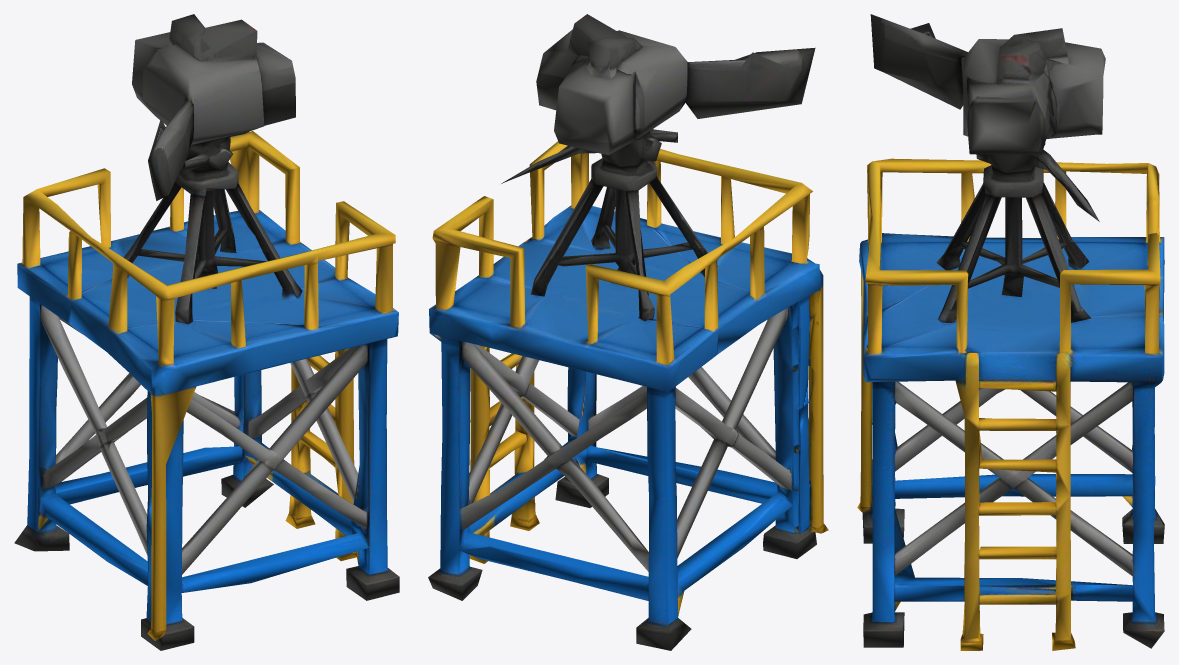
Rendered from camera-tower.glb.
3 views of the same model, side by side, from view 1: azimuth 30°, elevation 25°; view 2: azimuth 150°, elevation 25°; view 3: azimuth 270°, elevation 25° (orthographic). The views are drawn at different scales.
Parts seen in each view (by area): view 1: tripo_node_6824bfd7-9483-4006-afc6-f29f7edd4aeb; view 2: tripo_node_6824bfd7-9483-4006-afc6-f29f7edd4aeb; view 3: tripo_node_6824bfd7-9483-4006-afc6-f29f7edd4aeb.
Part boxes in pixels (x1,y1,x2,y2): tripo_node_6824bfd7-9483-4006-afc6-f29f7edd4aeb: (14,14,399,650); tripo_node_6824bfd7-9483-4006-afc6-f29f7edd4aeb: (428,14,828,650); tripo_node_6824bfd7-9483-4006-afc6-f29f7edd4aeb: (857,14,1164,650).
Bounding box in the file's own units: 0.4989 × 1 × 0.5033.
1 material, 1 textured.
